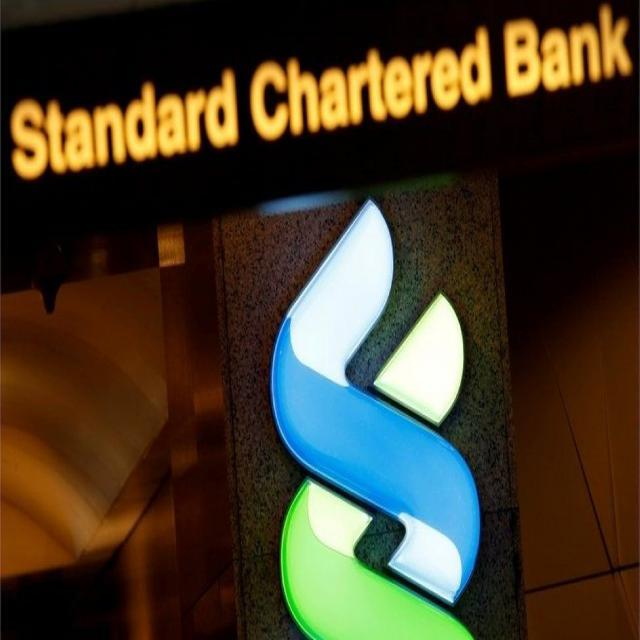Standard Chartered: (270, 192, 483, 640), (9, 22, 494, 180)
